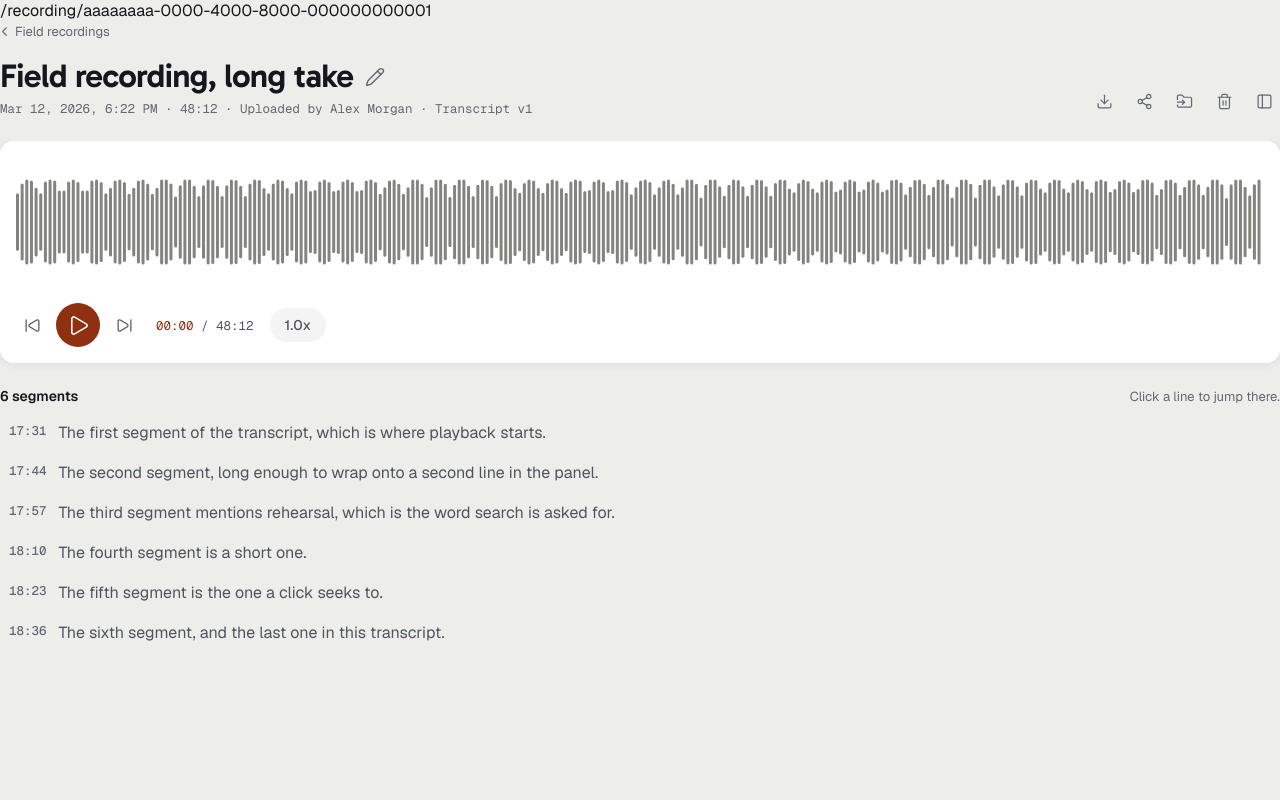
Test: sending it to the trash › says how long it can be restored for, from the instance own retention
The width and height of the screenshot is (1280, 800).
Step 1. Click the button named "Trash" → x=1224, y=101, box [1208,85,1240,117]
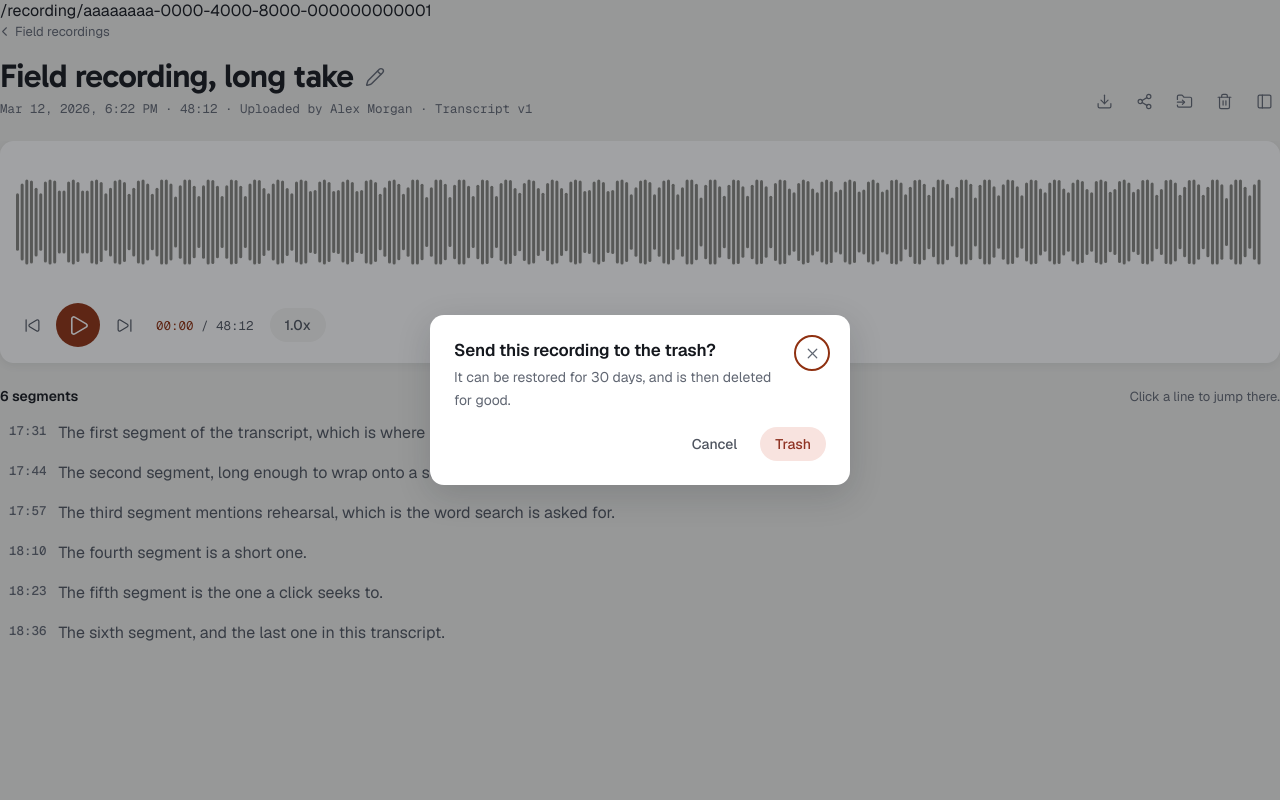
Result: the text "restored for 30 days" is shown at [454,368,771,408]
